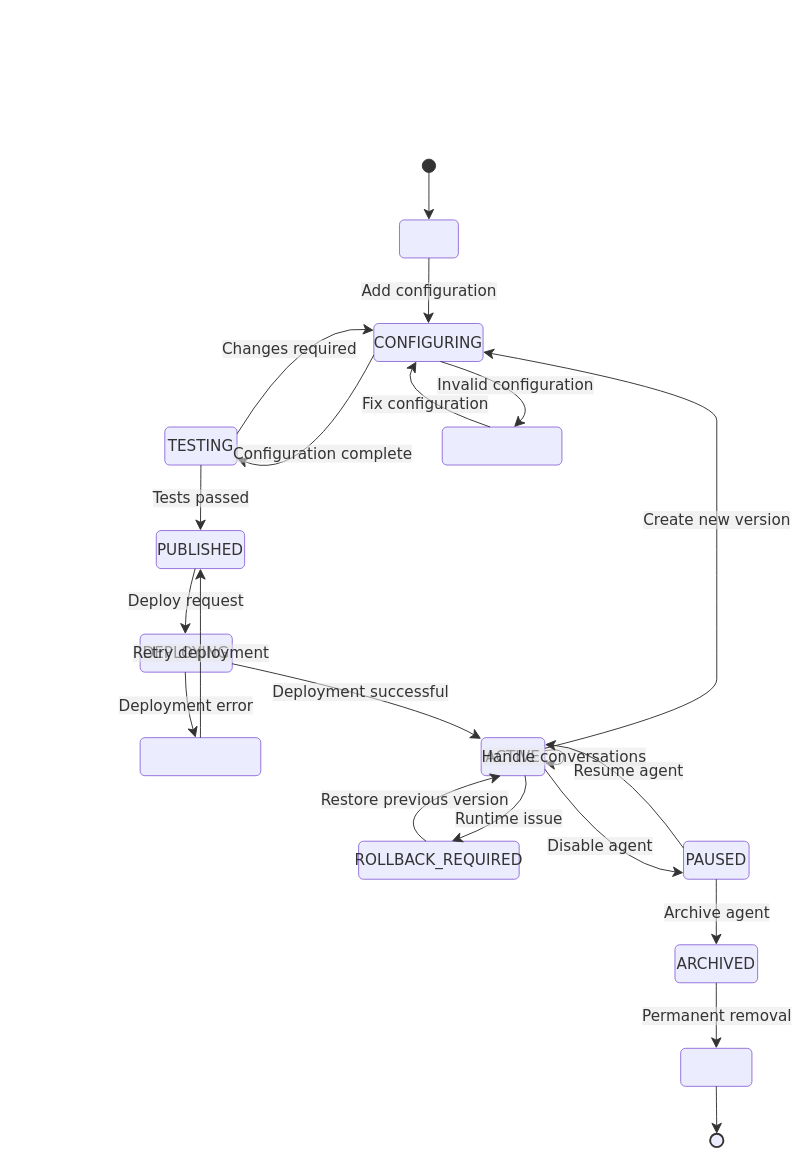
Some shapes in this 808 by 1164 pixel diagram are drawn without their labels. Each missing label, with the centre of its shape:
"CONFIG_ERROR" belongs at point 501,445.
"DEPLOY_FAILED" belongs at point 200,756.
"DRAFT" belongs at point 428,238.
"RETIRED" belongs at point 716,1066.
